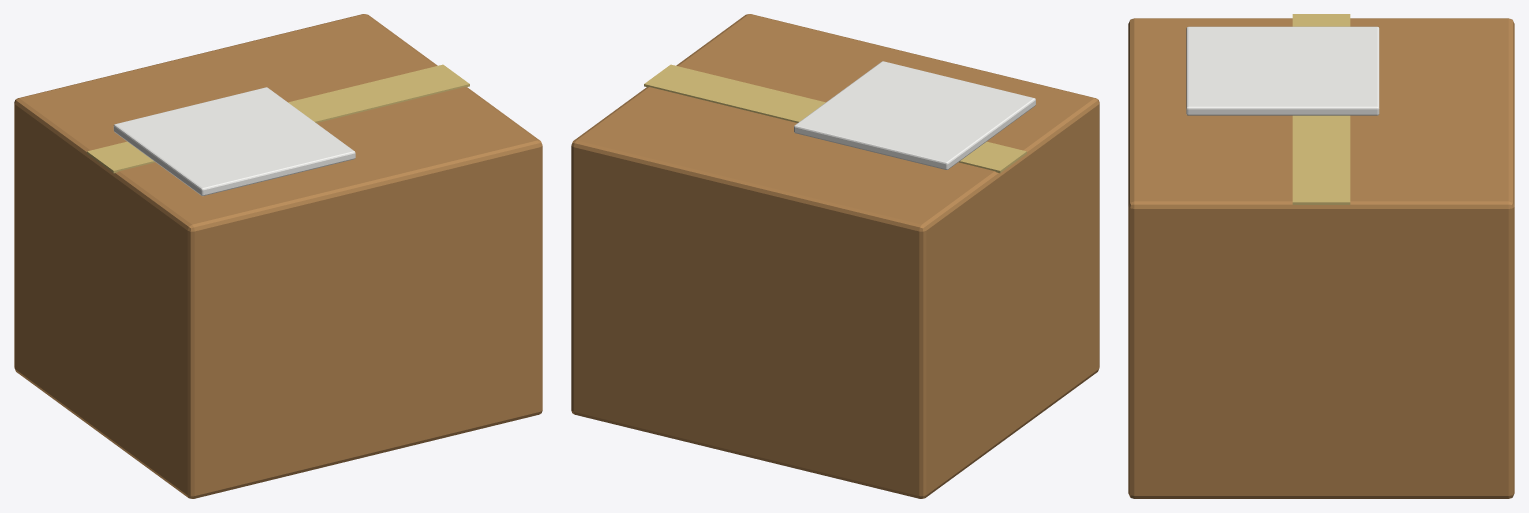
File: tilebox.glb
The picture shows the model from 3 angles, left to right: view 1: azimuth 30°, elevation 25°; view 2: azimuth 150°, elevation 25°; view 3: azimuth 270°, elevation 25°; orthographic projection. The views are drawn at different scales.
Parts seen in each view (by area): view 1: tilebox_box, tilebox_tile, tilebox_tape; view 2: tilebox_box, tilebox_tile, tilebox_tape; view 3: tilebox_box, tilebox_tile, tilebox_tape.
Boxes of the visible parts, <box> form: tilebox_box: <box>14,14,542,498</box>; tilebox_tile: <box>113,87,355,195</box>; tilebox_tape: <box>87,64,469,173</box>; tilebox_box: <box>571,14,1099,498</box>; tilebox_tile: <box>794,61,1035,169</box>; tilebox_tape: <box>644,64,1026,173</box>; tilebox_box: <box>1128,18,1514,498</box>; tilebox_tile: <box>1186,26,1379,115</box>; tilebox_tape: <box>1292,14,1350,204</box>.
Bounding box in the file's own units: 0.462 × 0.352 × 0.4.
